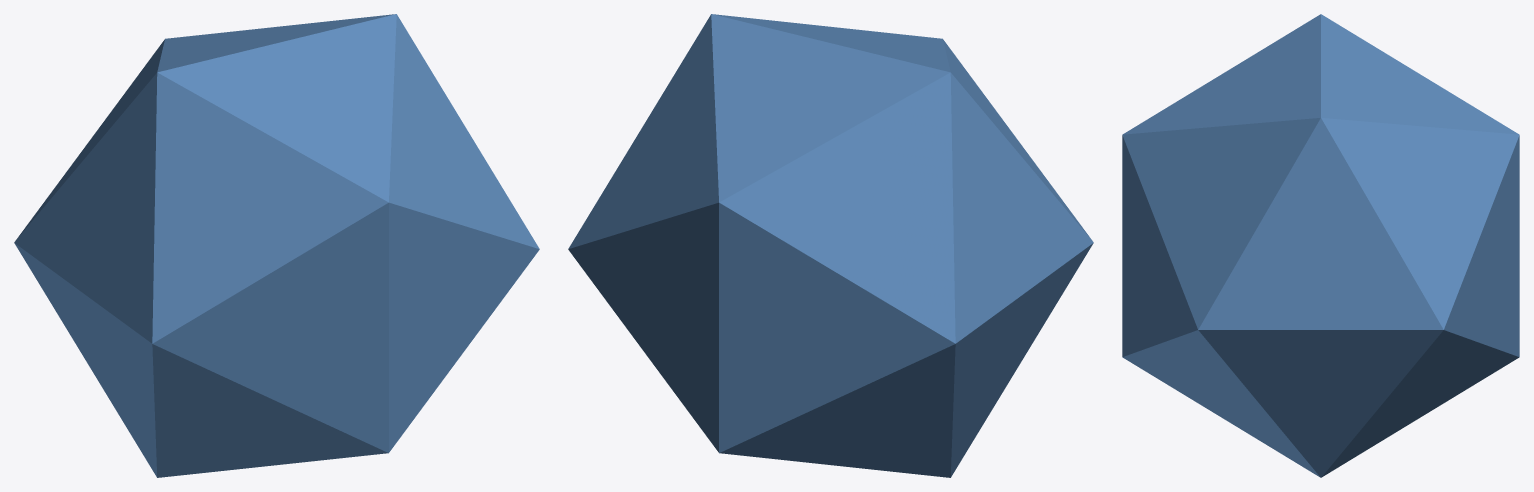
Rendered from icosahedron.gltf.
The picture shows the model from 3 angles, left to right: view 1: azimuth 30°, elevation 25°; view 2: azimuth 150°, elevation 25°; view 3: azimuth 270°, elevation 25°; orthographic projection. The views are drawn at different scales.
Visible parts, largest first — view 1: Solid; view 2: Solid; view 3: Solid.
Boxes of the visible parts, <box> form: Solid: <box>14,14,539,477</box>; Solid: <box>568,14,1093,477</box>; Solid: <box>1122,14,1519,477</box>.
Size of the model in its own units: 1.7 by 1.7 by 1.7.
